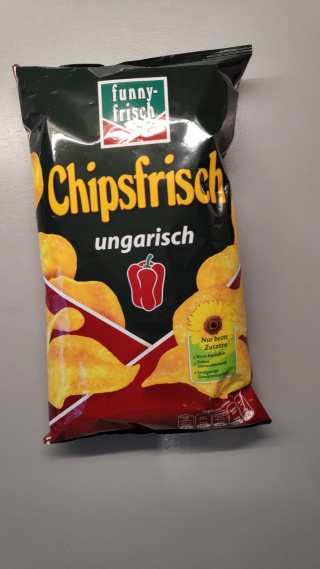chipsfrisch: (9, 43, 273, 445)
